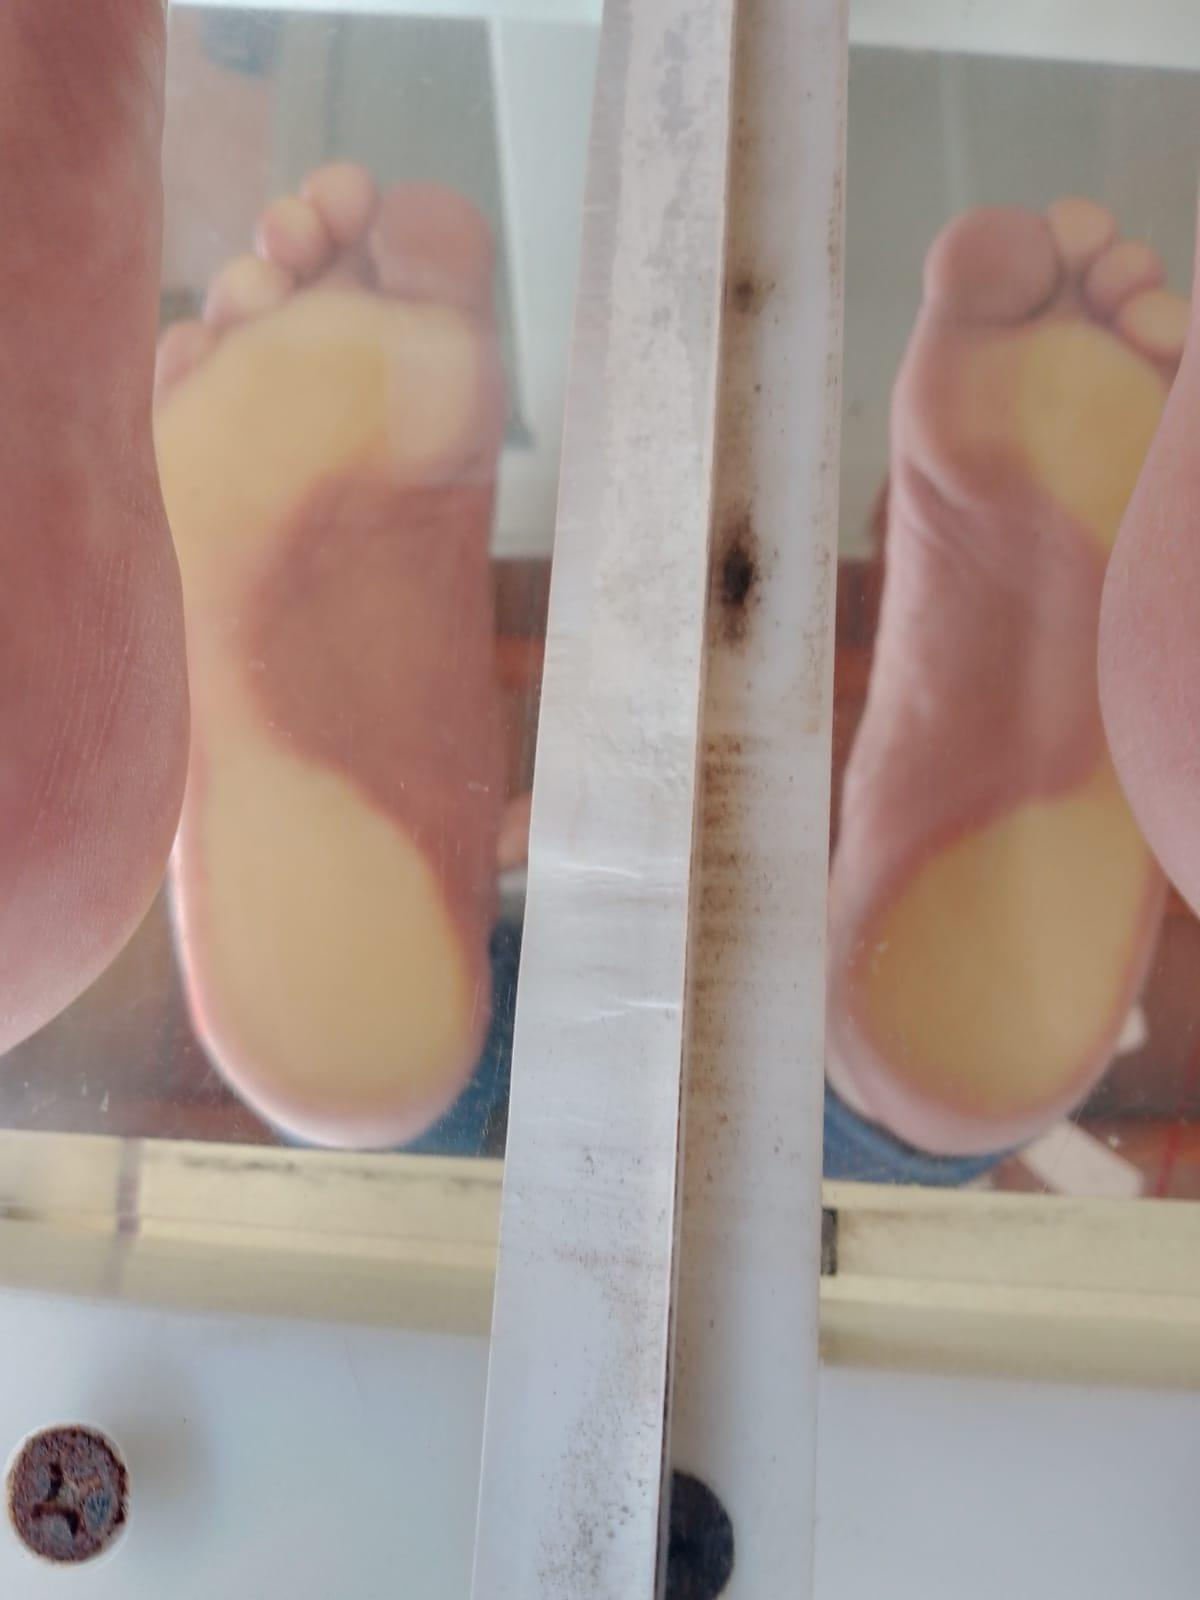Present: (135, 135, 529, 1160), (795, 180, 1200, 1145)
